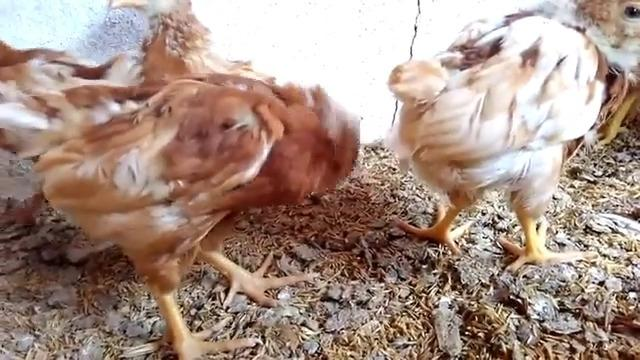AbNormal: (43, 76, 362, 356)
